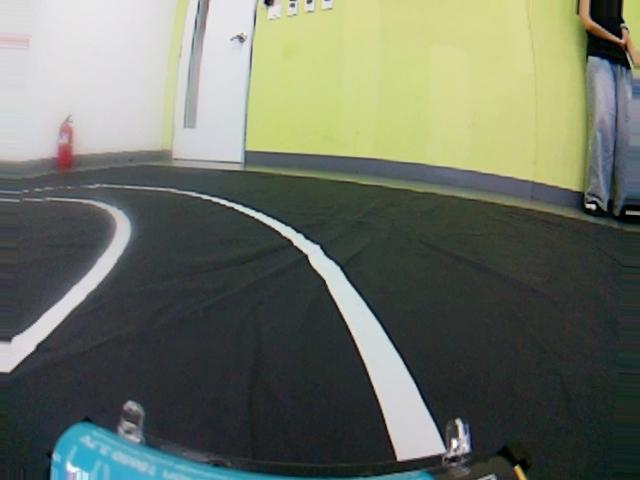straight: (0, 242, 564, 478)
